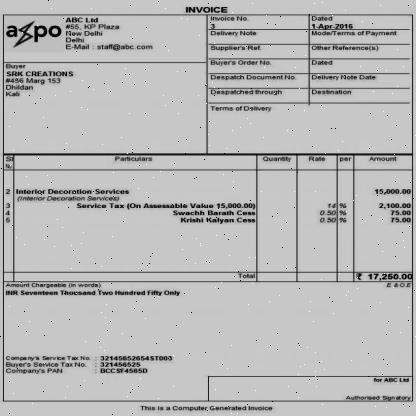Paragraph: (208, 15, 400, 97), (4, 354, 174, 376), (64, 16, 154, 52), (3, 282, 181, 297), (4, 64, 74, 98), (139, 406, 273, 412), (209, 106, 273, 113), (344, 395, 413, 401), (184, 6, 228, 14), (386, 282, 412, 288), (373, 378, 410, 382)
Table: (4, 154, 413, 282)
